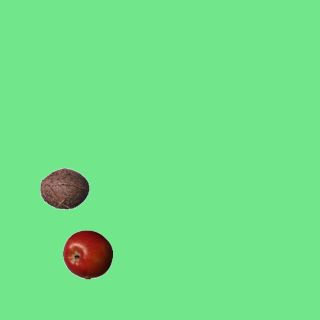Apple Braeburn: (62, 229, 112, 279)
Cocos: (39, 163, 89, 213)
